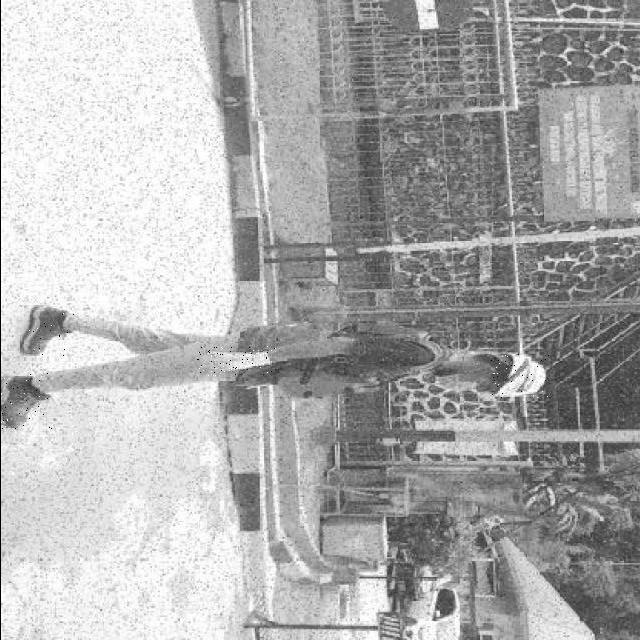boots: (16, 306, 78, 360), (0, 372, 52, 429)
helmet: (489, 353, 548, 399)
vest: (274, 323, 434, 405)
